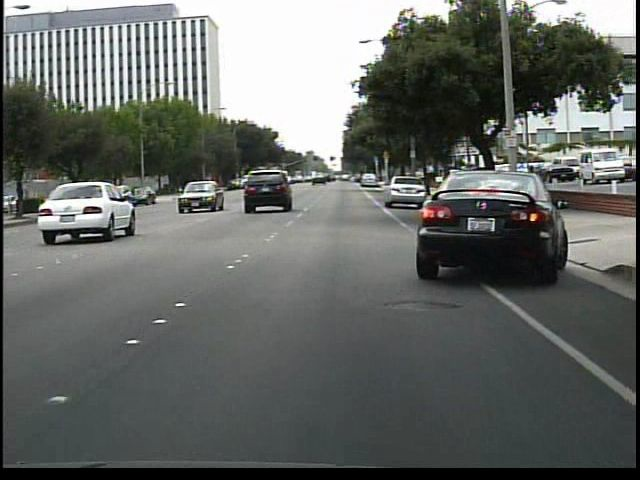person: (526, 162, 546, 211), (506, 164, 526, 210)
